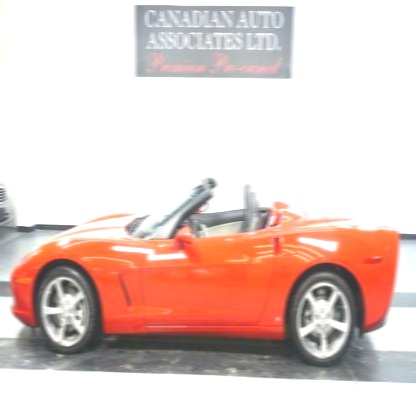Vehicle: (10, 176, 401, 371)
